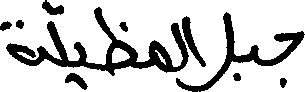ا: (180, 16, 205, 68)
ب: (233, 42, 260, 82)
ة: (0, 19, 43, 66)
ج: (261, 28, 303, 88)
ظ: (92, 4, 135, 76)
ل: (201, 11, 233, 90), (47, 17, 68, 68), (171, 15, 186, 72)
م: (146, 38, 172, 76)
ي: (65, 40, 86, 90)
